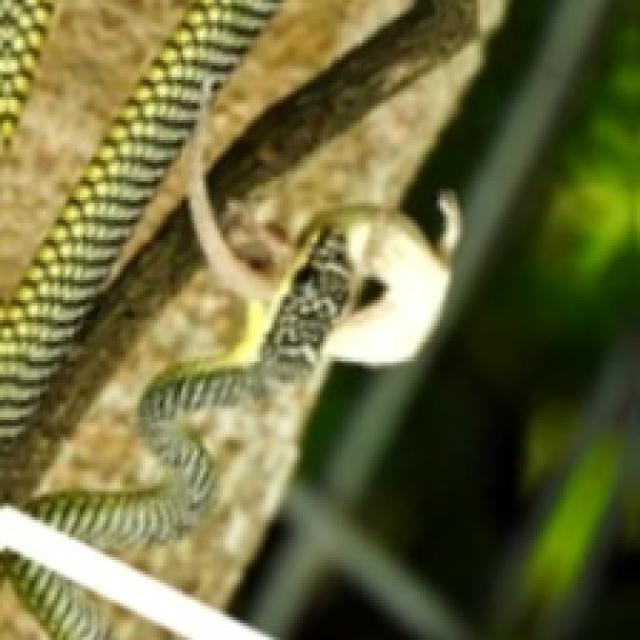paradise tree snake: (0, 0, 279, 452), (31, 231, 349, 547)
